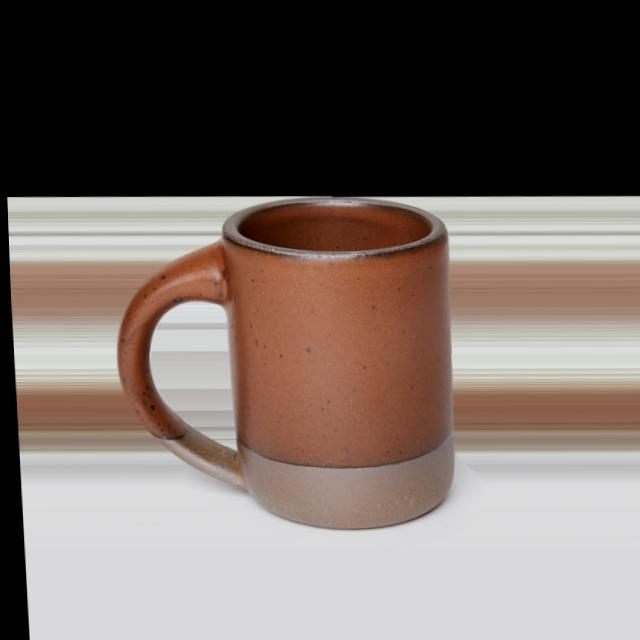cup: (99, 189, 465, 540)
